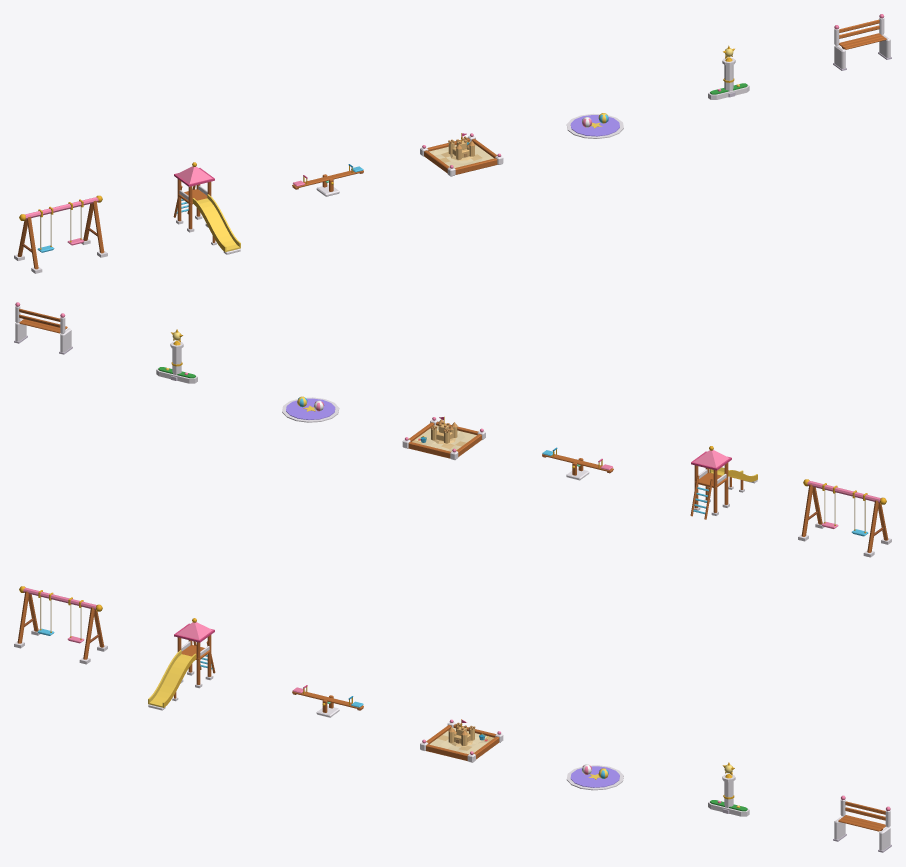
The model's file is park-equipment.fbx.
3 views of the same model, one above another, from view 1: azimuth 30°, elevation 25°; view 2: azimuth 150°, elevation 25°; view 3: azimuth 330°, elevation 25° (orthographic).
Parts seen in each view (by area): view 1: Park_Slide, Park_SwingFrame, Park_SandboxFrame, Park_Bench, Park_BallMat, Park_Castle3; view 2: Park_Slide, Park_SwingFrame, Park_SandboxFrame, Park_Bench, Park_BallMat, Park_Castle3; view 3: Park_Slide, Park_SwingFrame, Park_SandboxFrame, Park_Bench, Park_BallMat.
Part boxes in pixels (x1,y1,x2,y2): Park_Slide: (173,162,240,254); Park_SwingFrame: (14,195,107,273); Park_SandboxFrame: (420,133,503,176); Park_Bench: (833,14,891,70); Park_BallMat: (566,113,623,138); Park_Castle3: (448,133,474,160); Park_Slide: (690,446,757,519); Park_SwingFrame: (798,479,891,557); Park_SandboxFrame: (402,417,485,460); Park_Bench: (14,302,72,354); Park_BallMat: (282,397,339,422); Park_Castle3: (430,416,457,444); Park_Slide: (148,618,215,710); Park_SwingFrame: (14,586,107,664); Park_SandboxFrame: (420,719,503,762); Park_Bench: (833,795,891,852); Park_BallMat: (566,765,623,790).
Bounding box in the file's own units: 7793 × 538 × 850.
Materials: 1 (1 with a texture image).
